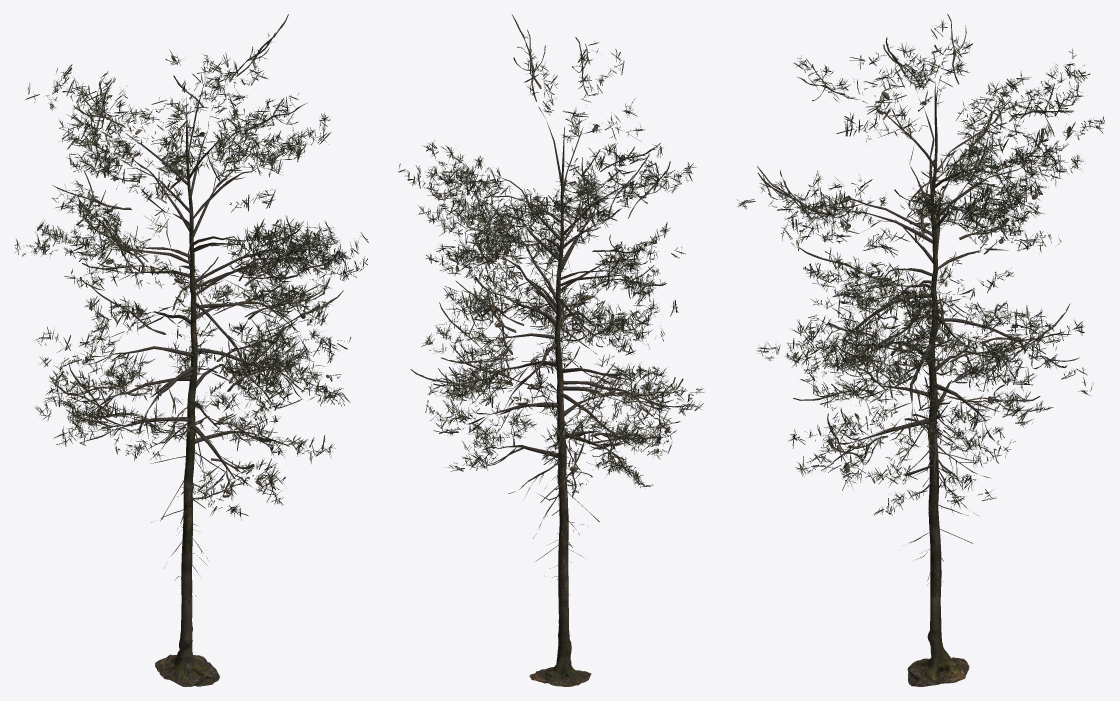
File: pine_tree_01.glb
The picture shows the model from 3 angles, left to right: view 1: azimuth 30°, elevation 25°; view 2: azimuth 150°, elevation 25°; view 3: azimuth 270°, elevation 25°; orthographic projection. The views are drawn at different scales.
Size of the model in its own units: 7.05 by 15.21 by 7.54.
Materials: 4 (4 with a texture image).
